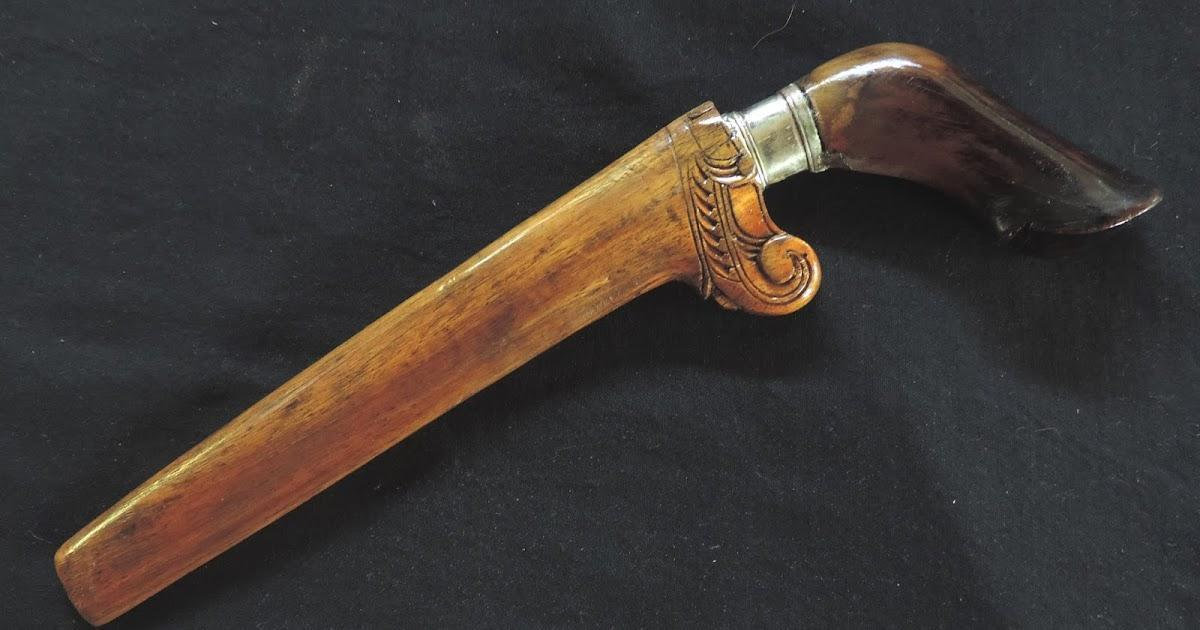facao: (55, 43, 1160, 624)
